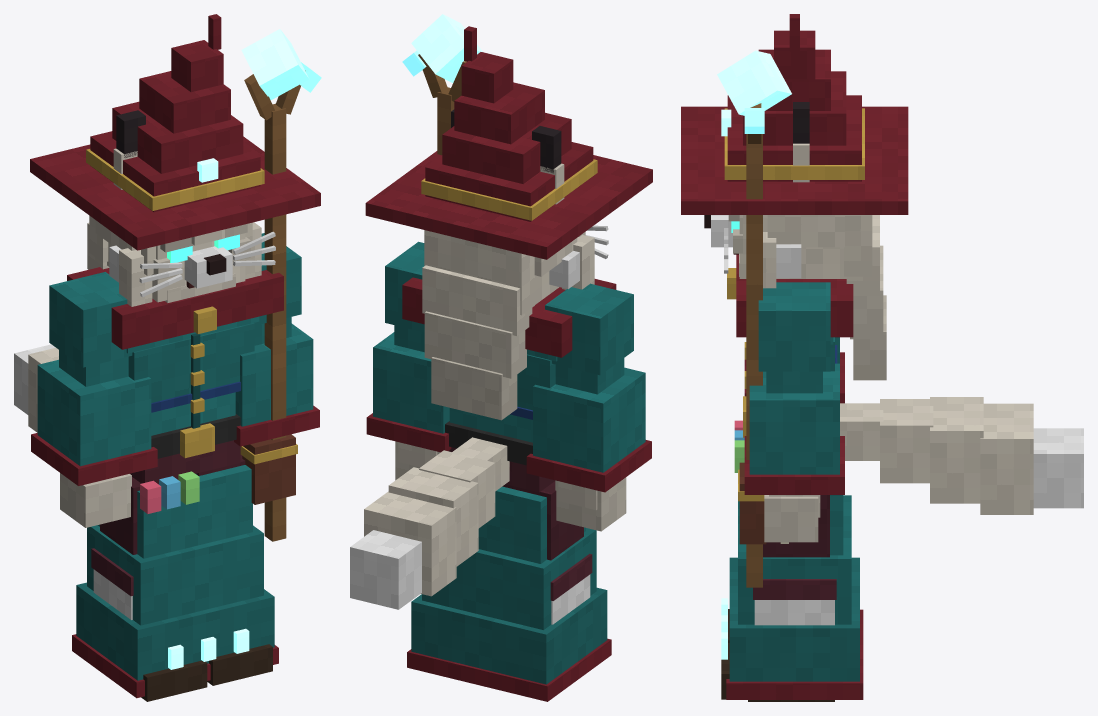
File: beastfolk_mage.glb
3 renders of one model, left to right at view 1: azimuth 30°, elevation 25°; view 2: azimuth 150°, elevation 25°; view 3: azimuth 270°, elevation 25°, orthographic. The views are drawn at different scales.
Parts seen in each view (by area): view 1: Head, Root, Torso, ArmR, HandL, ArmL, LegR, LegL; view 2: Head, Root, Torso, ArmR, ArmL, HandL, LegR; view 3: Head, Torso, ArmL, Root, HandL, LegL.
Part boxes in pixels (x1,y1,x2,y2): Head: (30,14,320,306); Root: (72,465,278,698); Torso: (14,267,297,513); ArmR: (31,272,157,527); HandL: (241,29,321,541); ArmL: (234,233,319,446); LegR: (91,477,207,701); LegL: (196,455,272,685); Head: (365,26,652,420); Root: (407,486,611,701); Torso: (350,277,616,609); ArmR: (526,283,651,531); ArmL: (366,241,451,480); HandL: (402,14,482,155); LegR: (502,481,592,624); Head: (681,14,908,380); Torso: (727,254,1083,544); ArmL: (744,282,844,543); Root: (721,495,863,699); HandL: (717,50,791,587); LegL: (721,495,836,701).
Bounding box in the file's own units: 0.8894 × 2.22 × 1.21.
39 materials, 39 textured.
